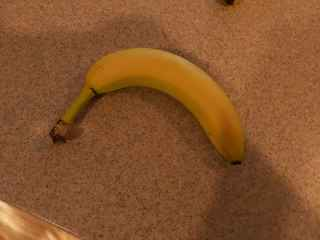banana: (48, 46, 248, 169)
